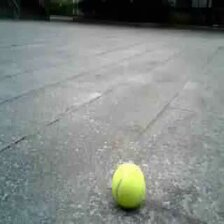tennis: (115, 164, 146, 205)
